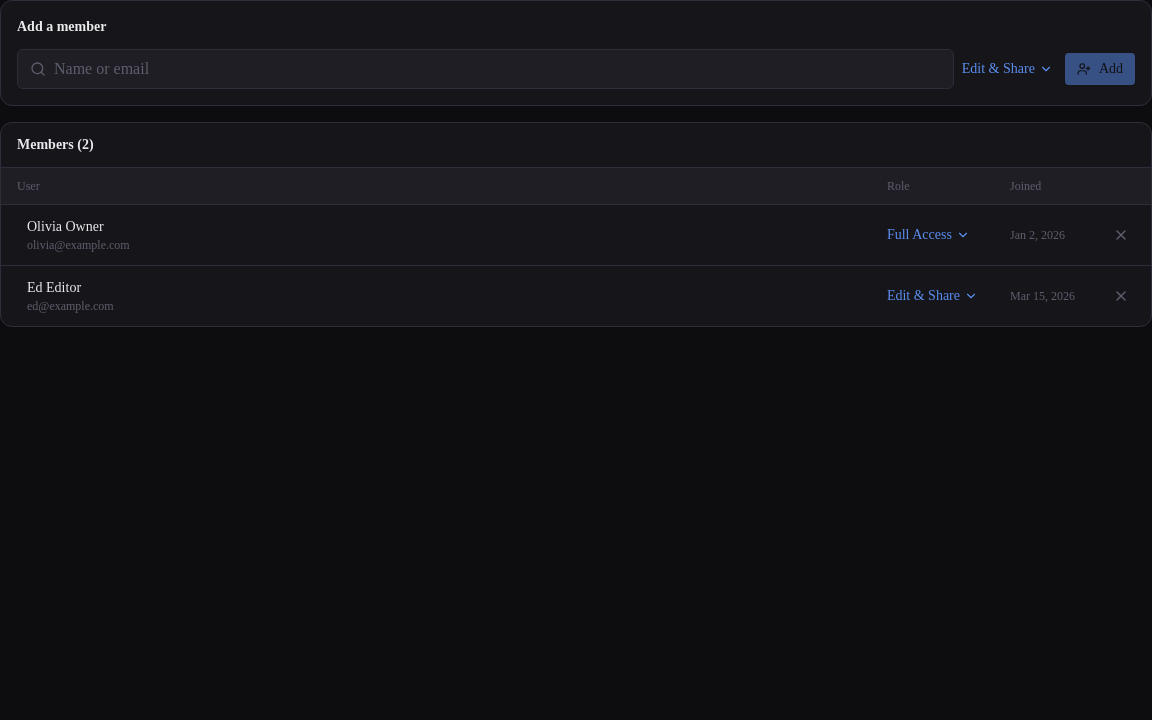
Test case: removing a member › asks first, then removes
Expected: the heading "Members (2)" is shown, 1,123 -> 1151,168
Click the button named "Remove Ed Editor".
click(1121, 296)  # box 1107,282 -> 1135,310
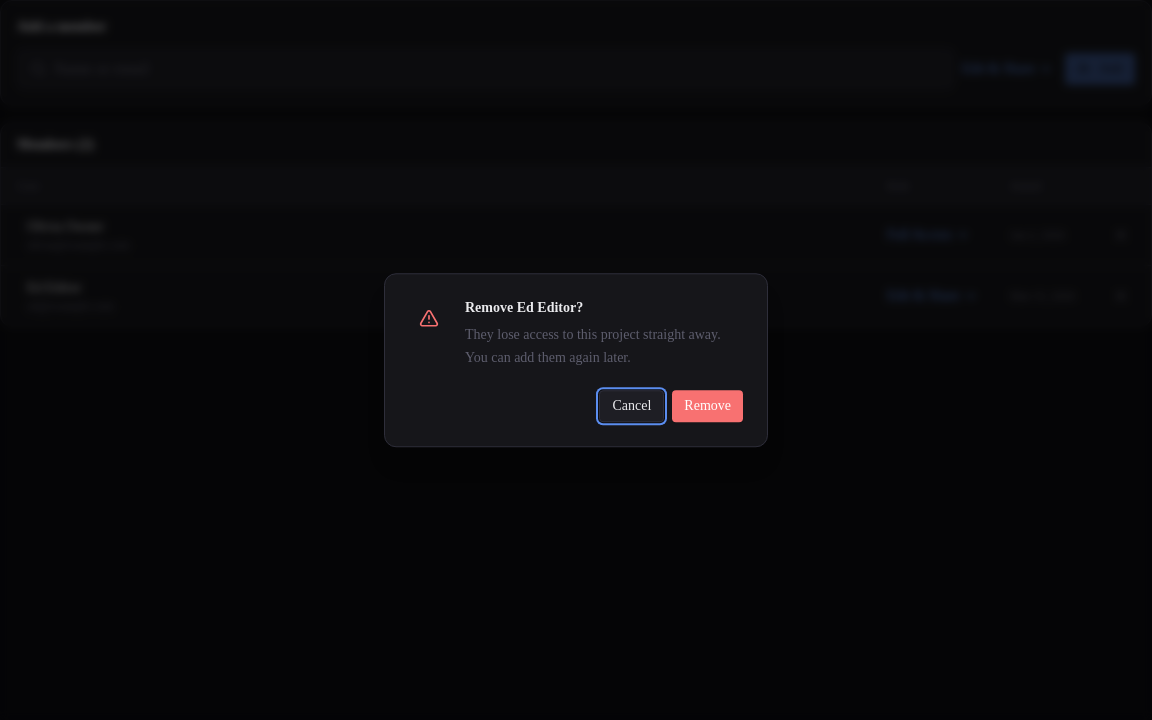
Expected: the heading "Remove Ed Editor?" is shown, 465,300 -> 583,315
Click the button "Remove".
click(708, 406)  # box 672,390 -> 743,422
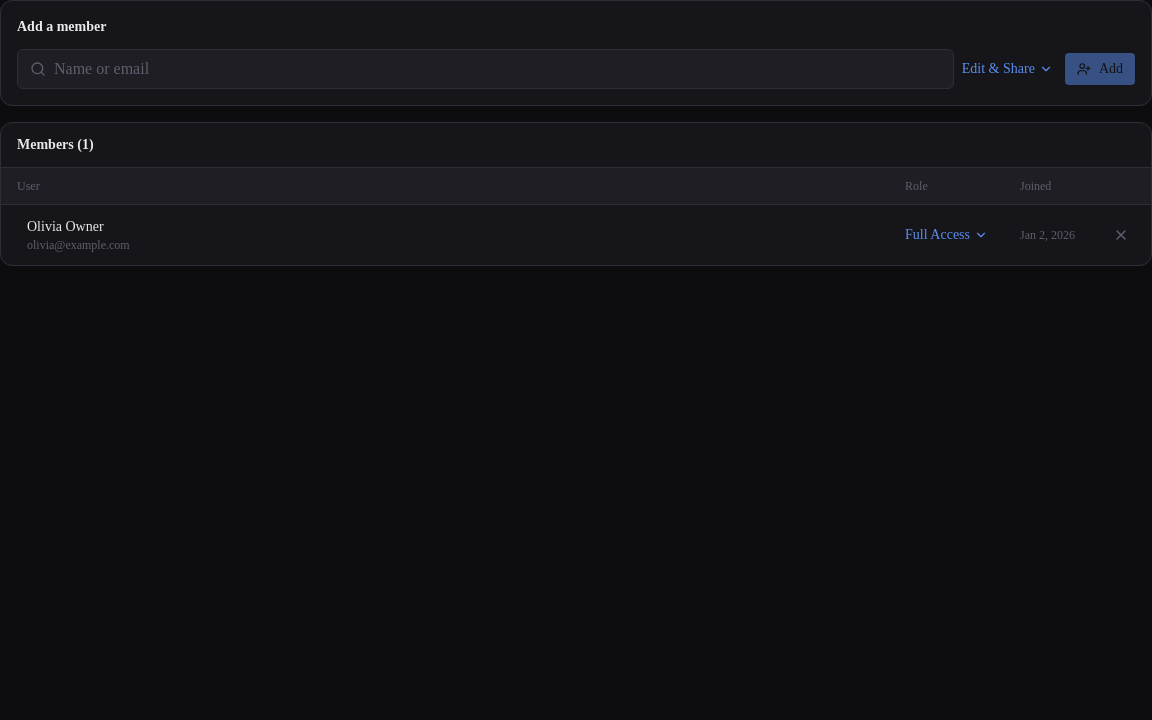
Expected: the heading "Members (1)" is shown, 1,123 -> 1151,168
